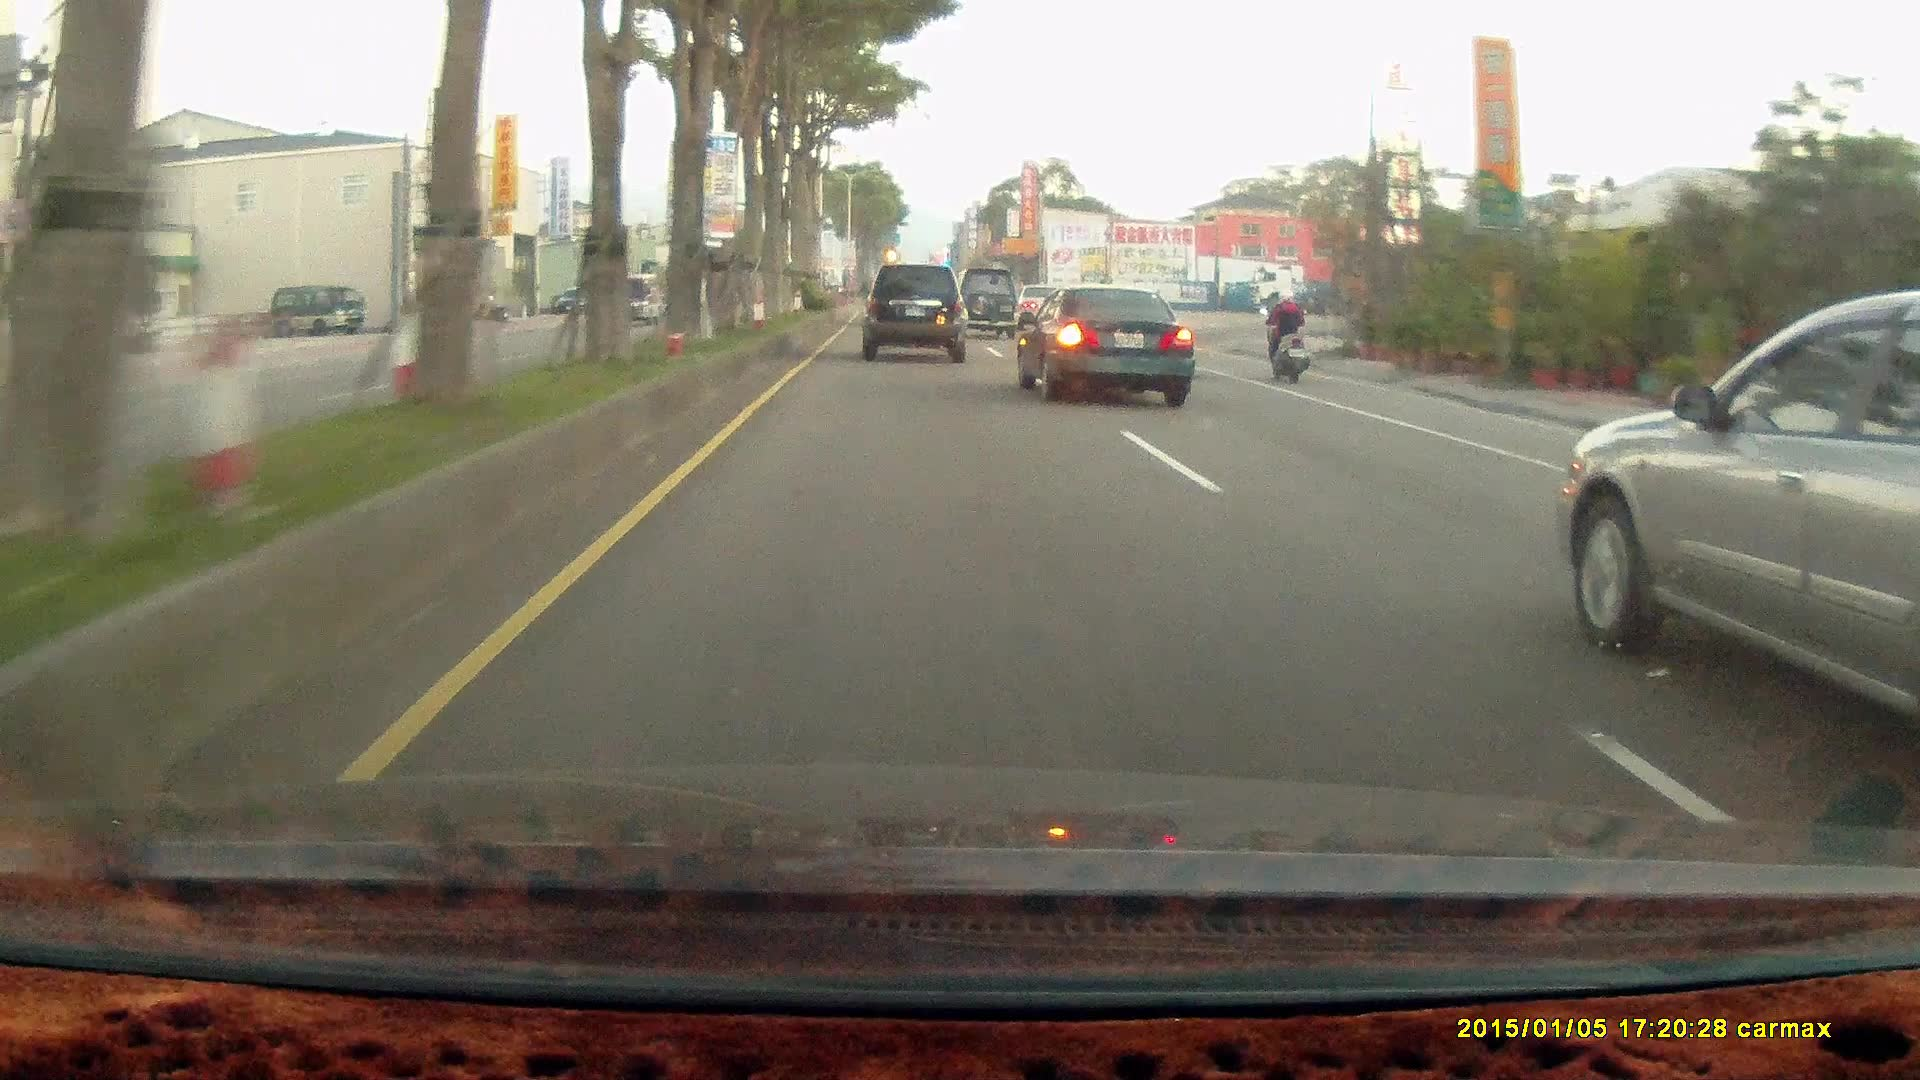rider: (1252, 282, 1322, 392), (1259, 284, 1311, 382)
vehicle: (1551, 296, 1920, 784), (1015, 283, 1195, 408), (1014, 284, 1194, 406), (1253, 261, 1482, 316), (861, 263, 969, 364), (860, 262, 966, 360), (948, 268, 1022, 343), (949, 267, 1022, 338), (270, 286, 368, 337), (270, 285, 366, 335), (600, 272, 667, 324), (554, 286, 595, 311)
